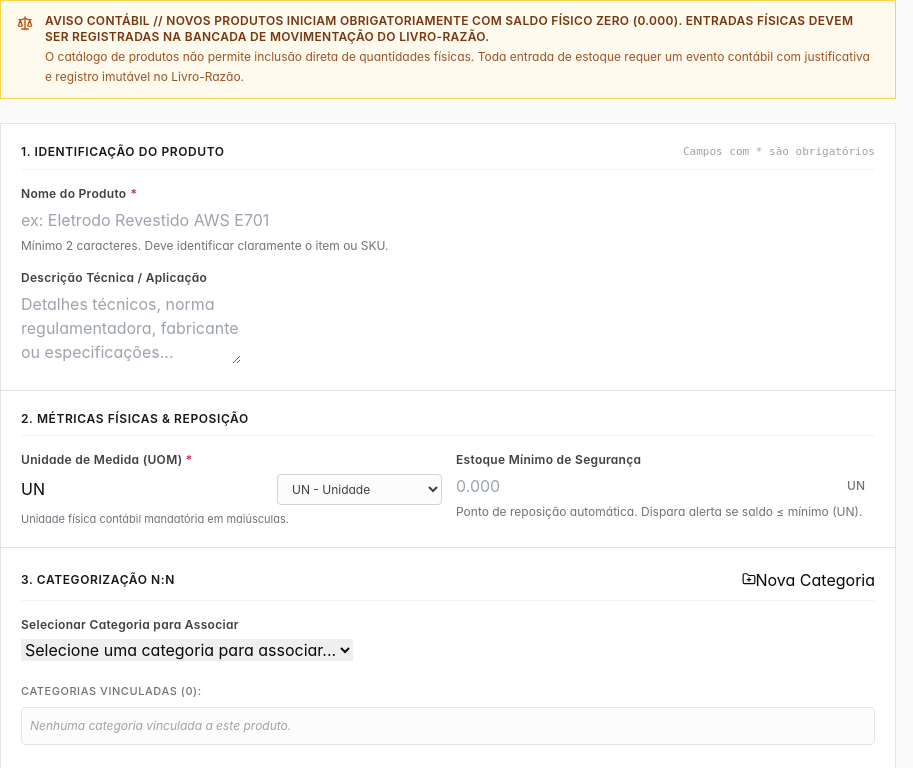
it: ProductForm (FT-13 / FT-14) › permite selecionar categoria através do select dropdown
Note: Seleciona a categoria 'cat-2' (EPI) pelo select
Select "+ EPI" in the dropdown with test id "product-category-select" at (187, 650), box left=21, top=639, right=353, bottom=661
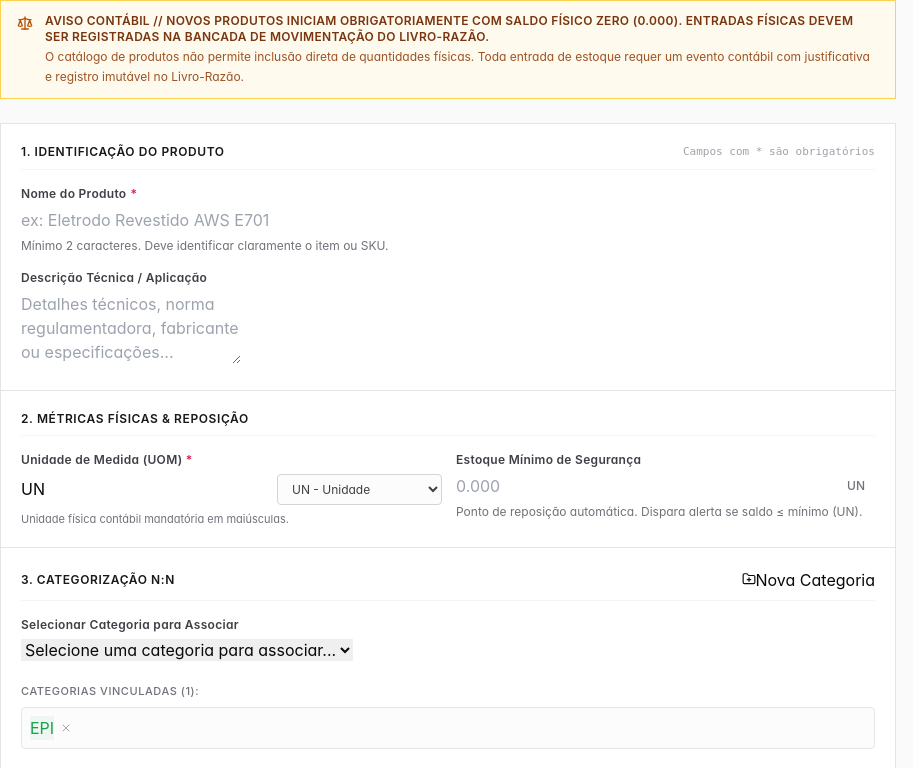
Check: the element with test id "category-badge-cat-2" is shown, box left=30, top=716, right=54, bottom=740
Check: the button with test id "remove-category-cat-2" is shown
Note: Remove a categoria clicando no botão X
Click the button with test id "remove-category-cat-2" at (66, 728), box left=58, top=720, right=74, bottom=736
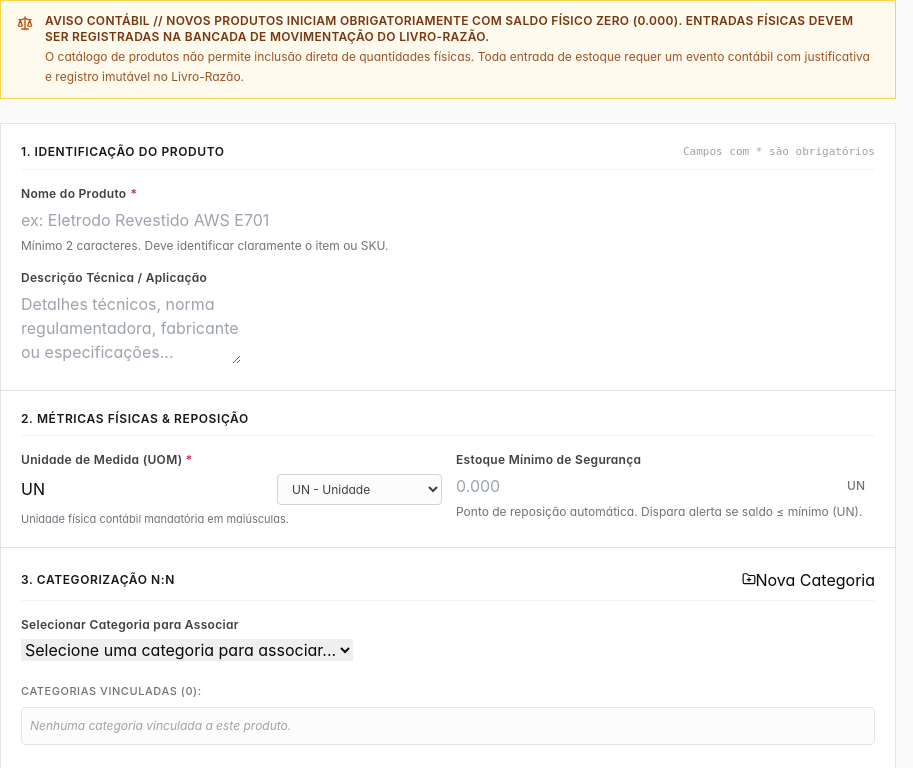
Check: the element with test id "category-badge-cat-2" is gone
